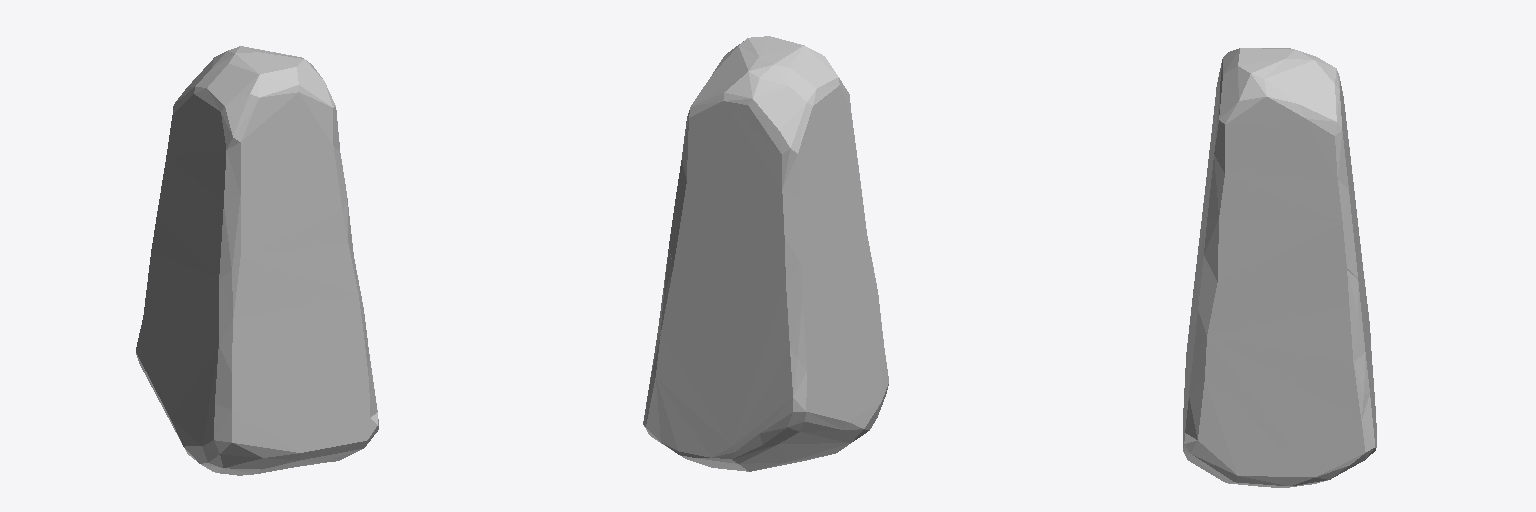
File: lowPoly.obj
3 views of the same model, side by side, from view 1: azimuth 30°, elevation 25°; view 2: azimuth 150°, elevation 25°; view 3: azimuth 270°, elevation 25° (orthographic).
Visible parts, largest first — view 1: lowPoly_highPoly; view 2: lowPoly_highPoly; view 3: lowPoly_highPoly.
Boxes of the visible parts, <box> form: lowPoly_highPoly: <box>136,46,378,475</box>; lowPoly_highPoly: <box>643,36,888,471</box>; lowPoly_highPoly: <box>1183,48,1376,487</box>.
Size of the model in its own units: 1.93 by 4.38 by 1.93.